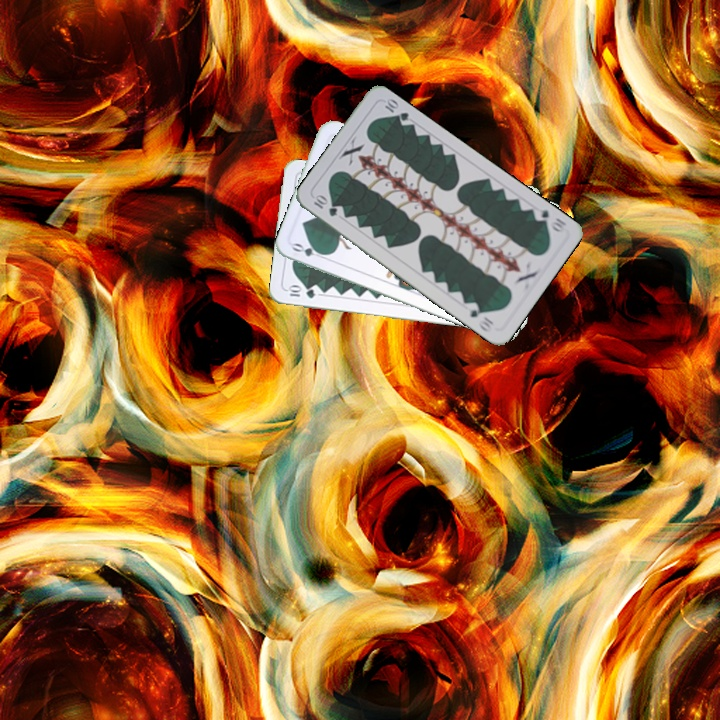G10: (529, 205, 569, 235), (310, 191, 340, 219), (283, 283, 318, 301)
GO: (288, 239, 329, 262)
